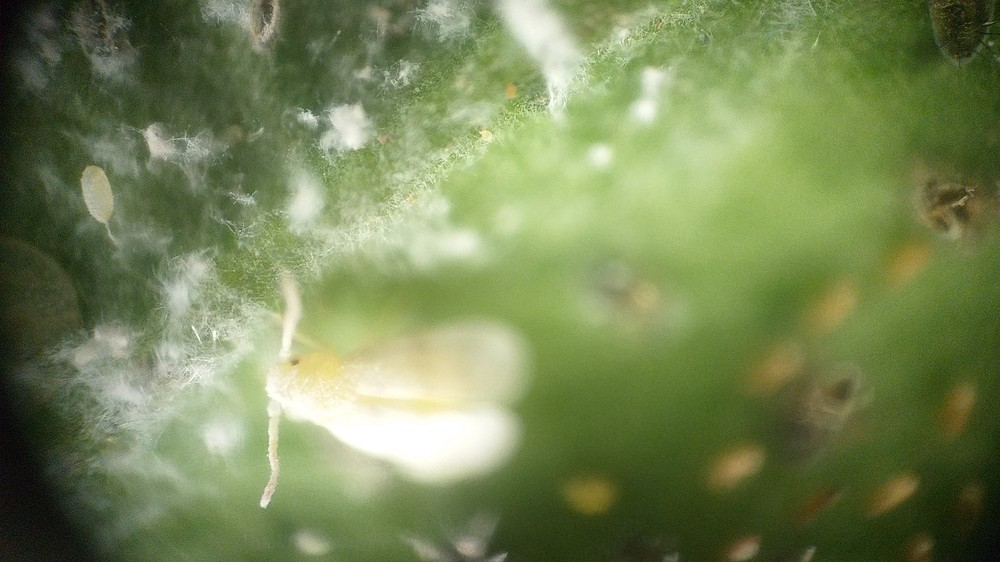Mosca Blanca: (233, 252, 551, 528)
